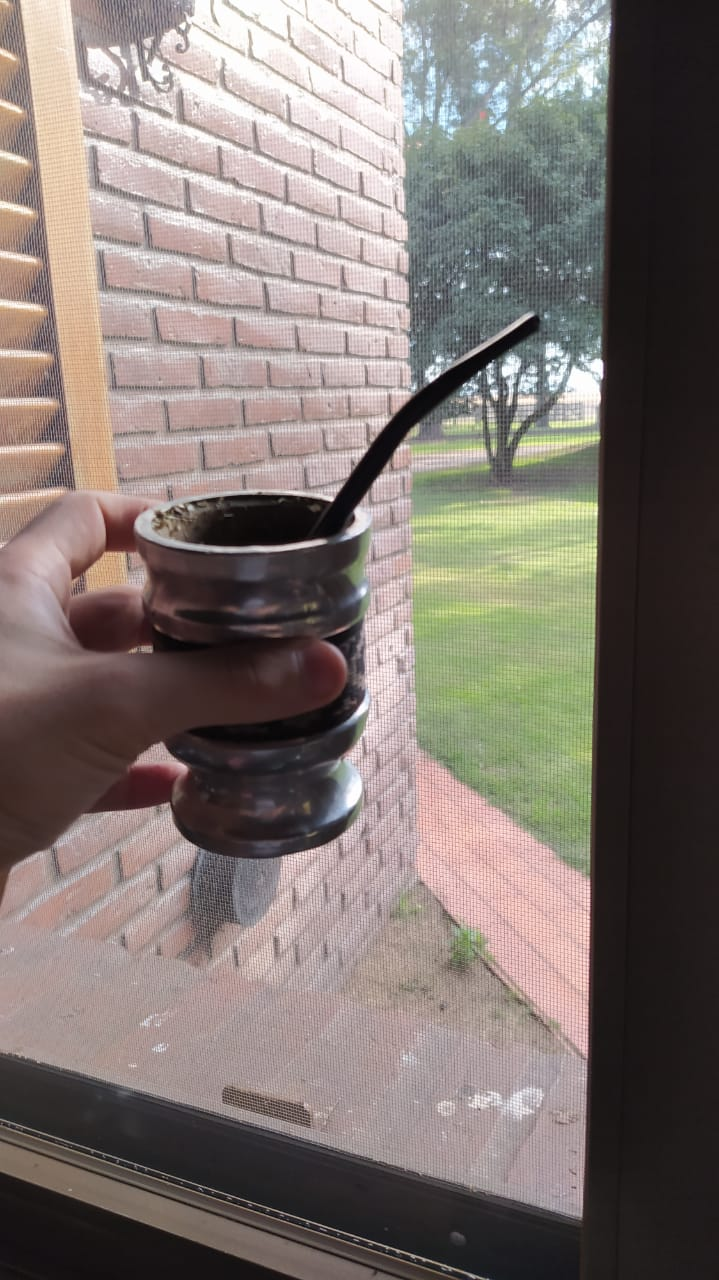mate: (129, 300, 551, 861)
metal: (127, 298, 549, 859)
